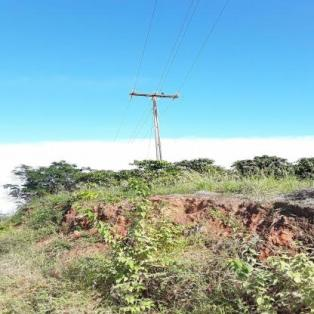Poste: (149, 91, 164, 161)
